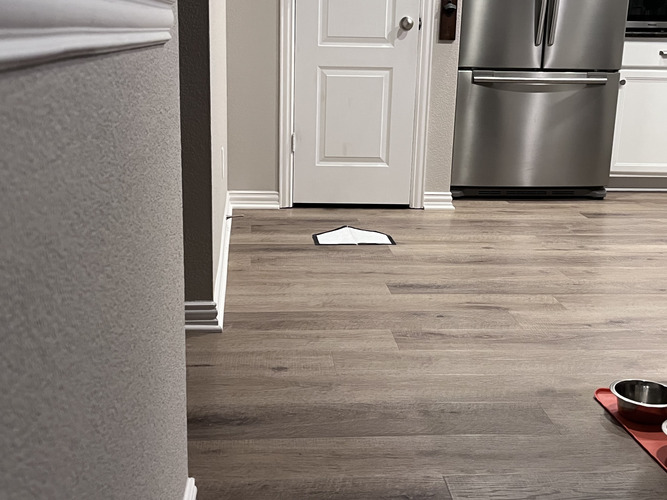homeplate: (311, 224, 395, 246)
